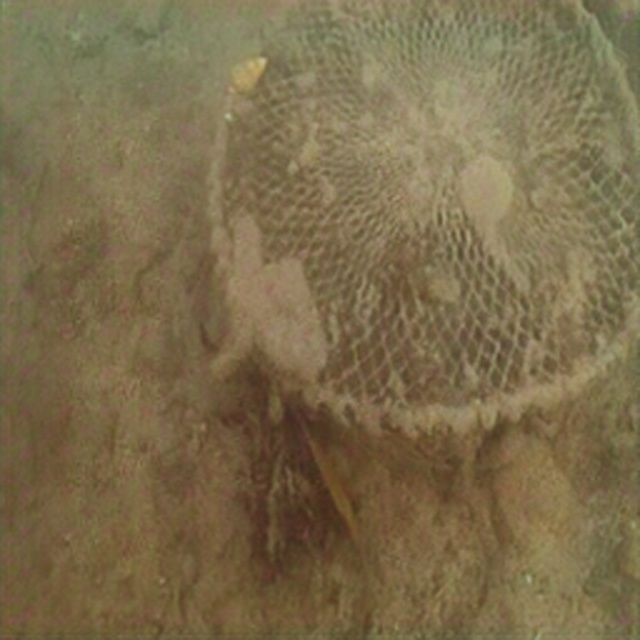mine: (209, 0, 639, 429)
